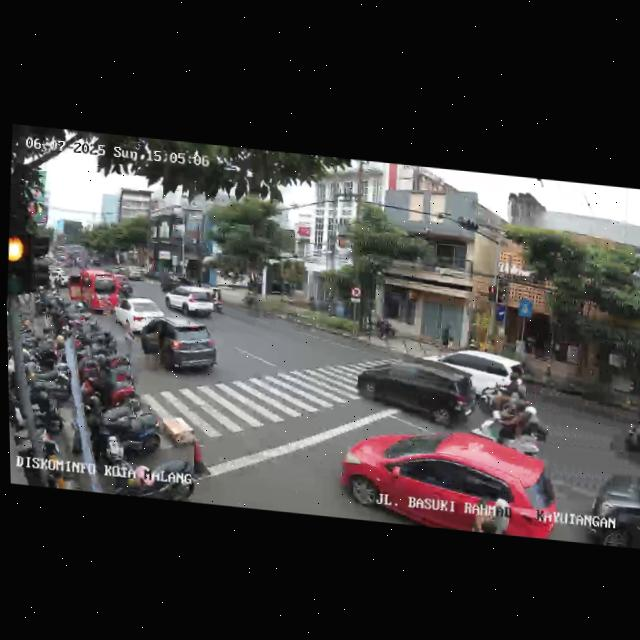car: (337, 420, 561, 540), (353, 354, 482, 433), (420, 342, 525, 405), (144, 316, 221, 382), (586, 460, 640, 549), (65, 265, 119, 317), (112, 293, 164, 338), (165, 281, 219, 320)
motorcycle: (470, 392, 548, 462), (479, 368, 530, 420)
